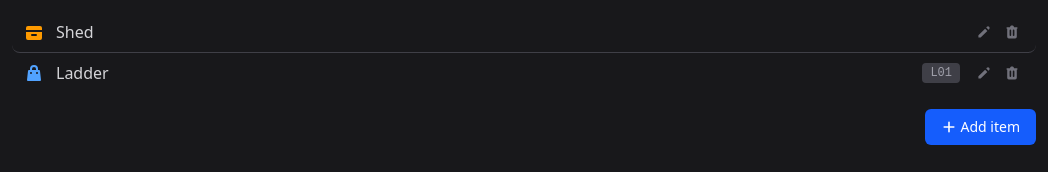
NodeBrowser › drills into a storage node and shows its children and breadcrumb
Click the button "Shed". click: (75, 32)
box: [56,20,960,44]
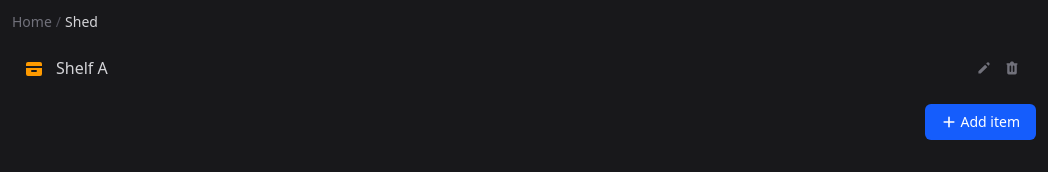
Expected: the navigation bar named "breadcrumb" is shown, [12,12,98,32]
Expected: the button "Shelf A" is shown, [56,56,960,80]
